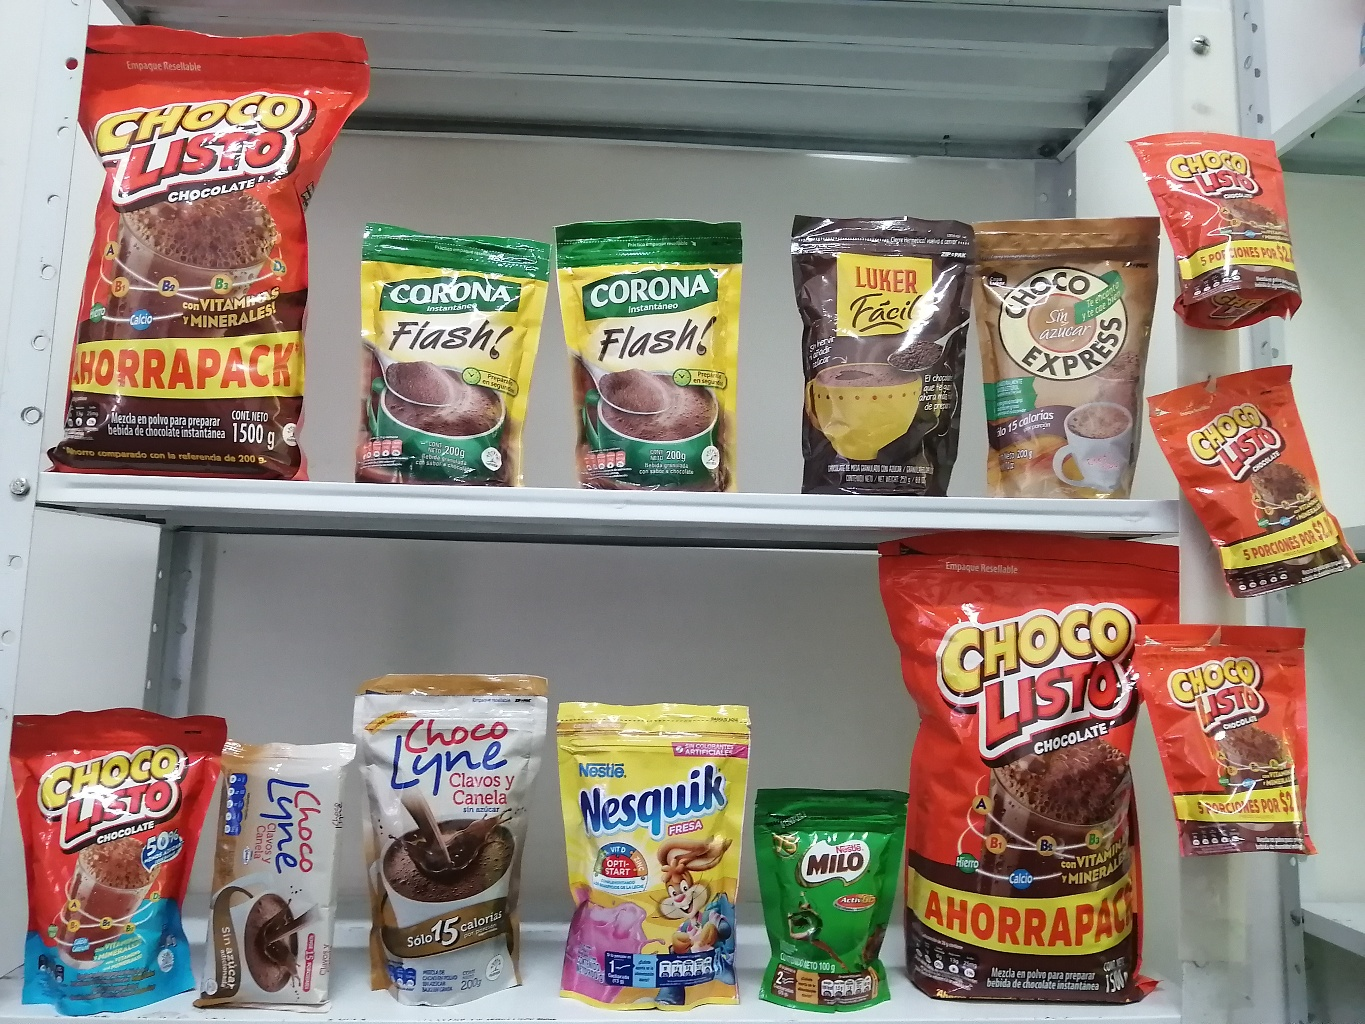COL0170103DYP1,500: (876, 526, 1190, 999)
COL0170104DYP20000: (8, 699, 218, 1009)
COL0170203DYP10000: (753, 776, 910, 1016)
COL0170305DYP20000: (555, 689, 766, 1013)
